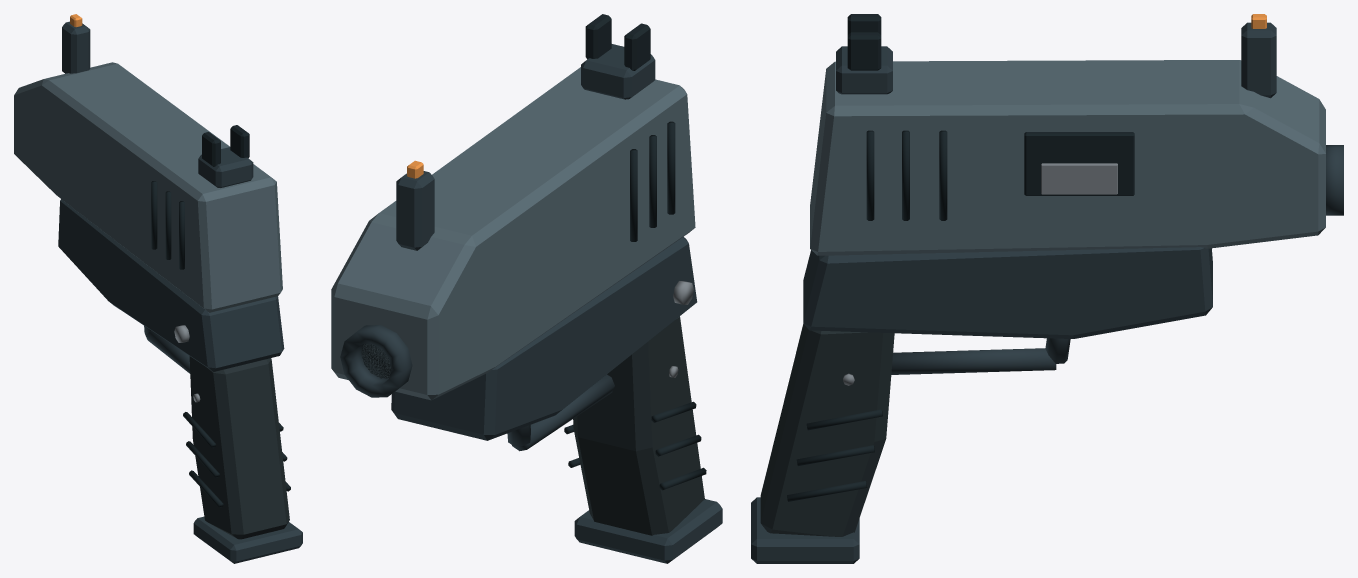
Rendered from WpnPistol.glb.
3 renders of one model, left to right at view 1: azimuth 30°, elevation 25°; view 2: azimuth 150°, elevation 25°; view 3: azimuth 270°, elevation 25°, orthographic. The views are drawn at different scales.
Visible parts, largest first — view 1: WpnPistol; view 2: WpnPistol; view 3: WpnPistol.
Boxes of the visible parts, left/top/right/bottom form: WpnPistol: left=14, top=14, right=302, bottom=563; WpnPistol: left=331, top=14, right=722, bottom=563; WpnPistol: left=751, top=14, right=1343, bottom=563.
Size of the model in its own units: 0.074 by 0.295 by 0.3005.
